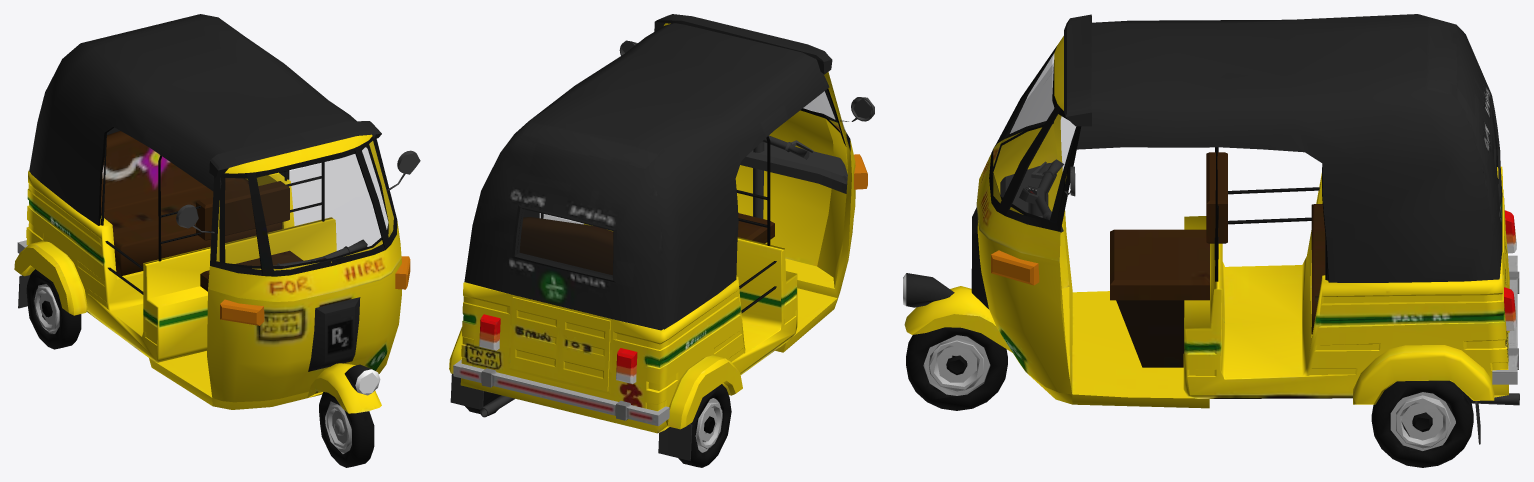
Rendered from auto-real.glb.
The picture shows the model from 3 angles, left to right: view 1: azimuth 30°, elevation 25°; view 2: azimuth 150°, elevation 25°; view 3: azimuth 270°, elevation 25°; orthographic projection. The views are drawn at different scales.
Visible parts, largest first — view 1: persp5_lambert1_0, persp5_blinn1_0; view 2: persp5_lambert1_0, persp5_blinn1_0; view 3: persp5_lambert1_0, persp5_blinn1_0.
Boxes of the visible parts, <box> form: persp5_lambert1_0: <box>14,14,420,467</box>; persp5_blinn1_0: <box>217,141,393,270</box>; persp5_lambert1_0: <box>449,14,874,467</box>; persp5_blinn1_0: <box>517,42,871,276</box>; persp5_lambert1_0: <box>903,14,1519,467</box>; persp5_blinn1_0: <box>991,53,1497,222</box>.
Size of the model in its own units: 1.5 by 1.74 by 2.72.
Materials: 2 (1 with a texture image).
